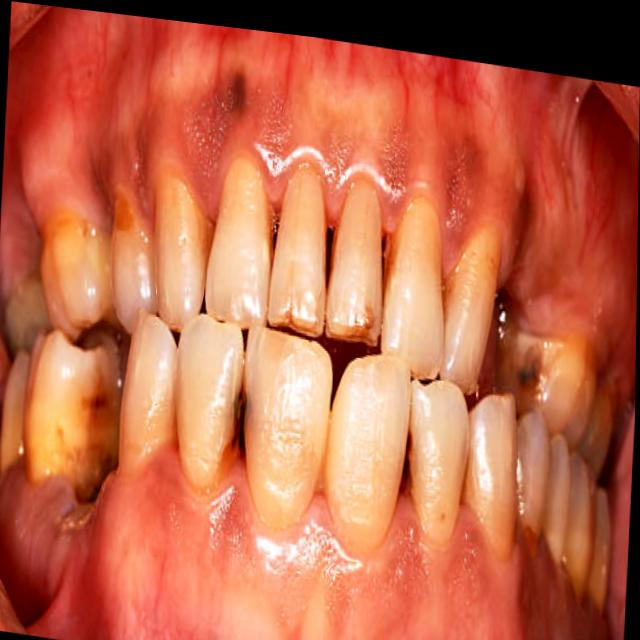calculus: (75, 347, 122, 501), (210, 362, 250, 493), (43, 209, 108, 275), (379, 202, 413, 322), (498, 329, 559, 390), (112, 193, 149, 260), (400, 436, 408, 493), (0, 362, 6, 426)
gingivitis: (25, 63, 639, 340), (0, 456, 573, 640)
